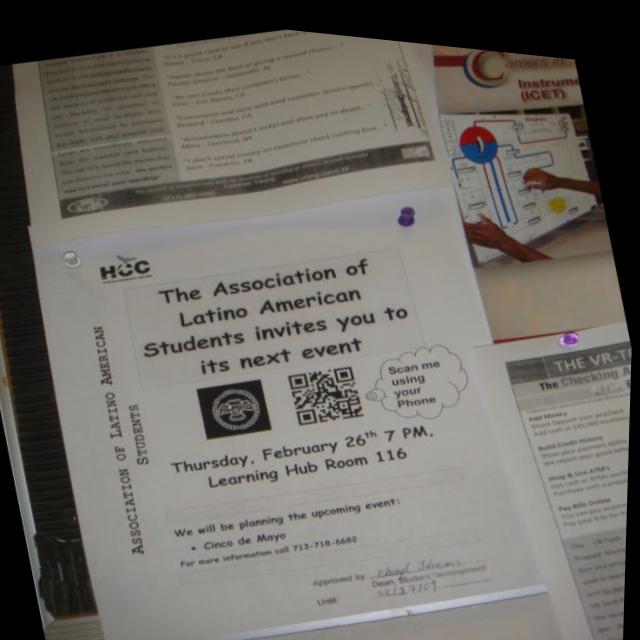qrcode: (289, 354, 368, 424)
